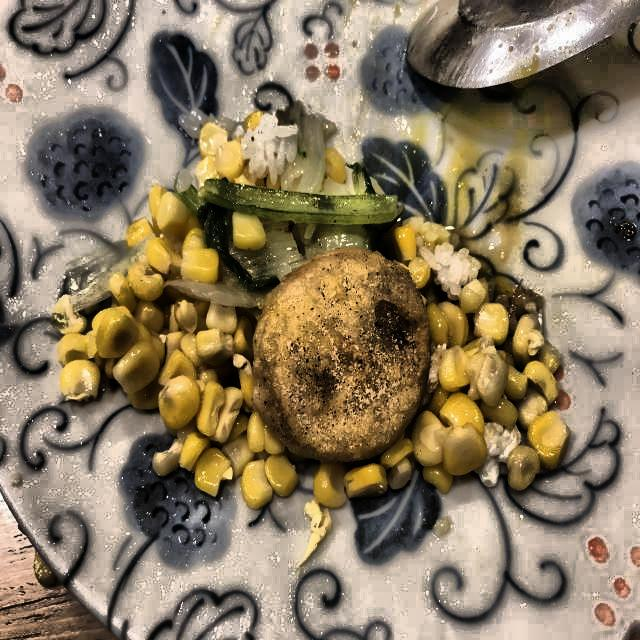Food: (250, 247, 432, 465)
